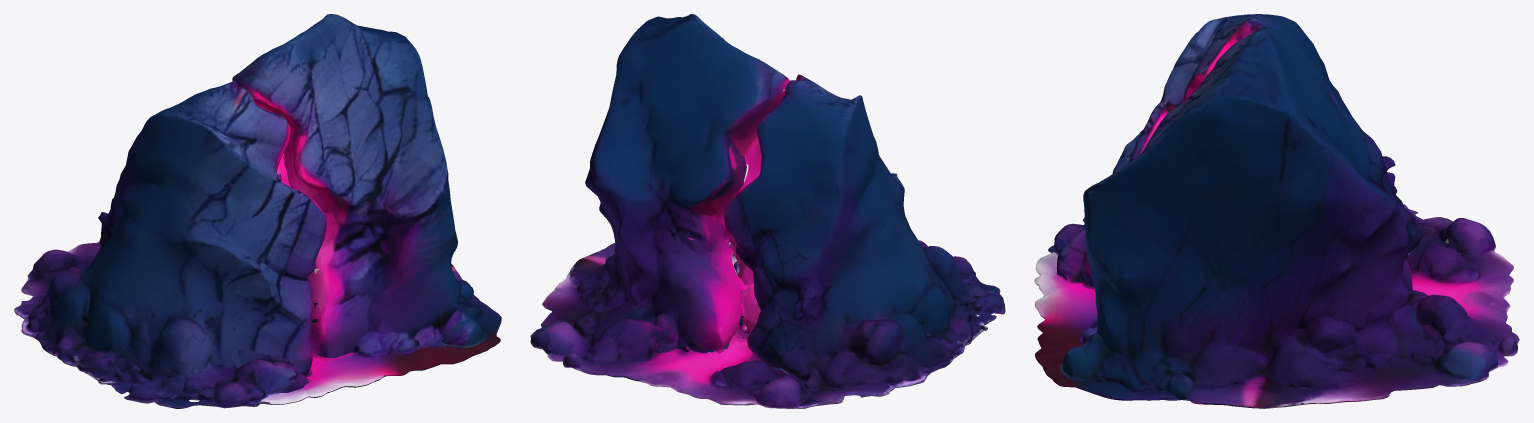
The model's file is shore-stone-11-generated-2026-05-17T20-22-40-414Z.medium.glb.
3 renders of one model, left to right at view 1: azimuth 30°, elevation 25°; view 2: azimuth 150°, elevation 25°; view 3: azimuth 270°, elevation 25°, orthographic. The views are drawn at different scales.
Parts seen in each view (by area): view 1: temp_mesh.ply; view 2: temp_mesh.ply; view 3: temp_mesh.ply.
Boxes of the visible parts, x1,y1,x2,y2 form: temp_mesh.ply: (14,14,501,408); temp_mesh.ply: (530,14,1005,408); temp_mesh.ply: (1034,14,1519,408).
Size of the model in its own units: 1.97 by 1.35 by 1.89.
1 material, 1 textured.
